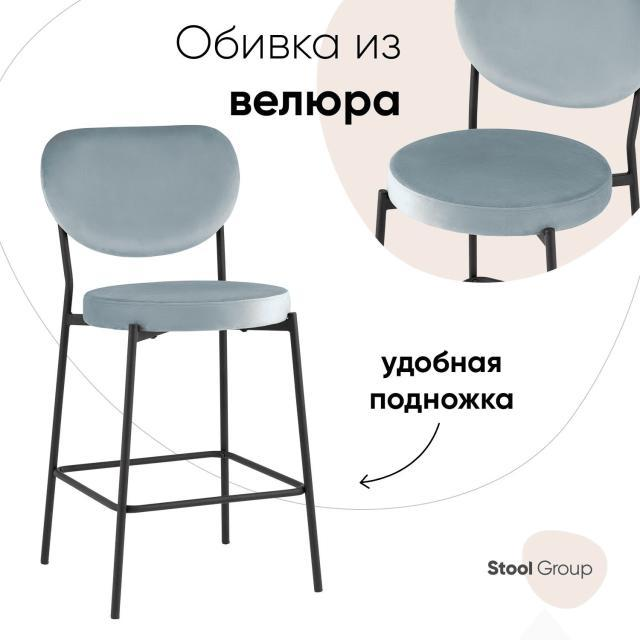chair: (35, 120, 326, 620), (384, 0, 638, 226), (44, 121, 296, 326)
